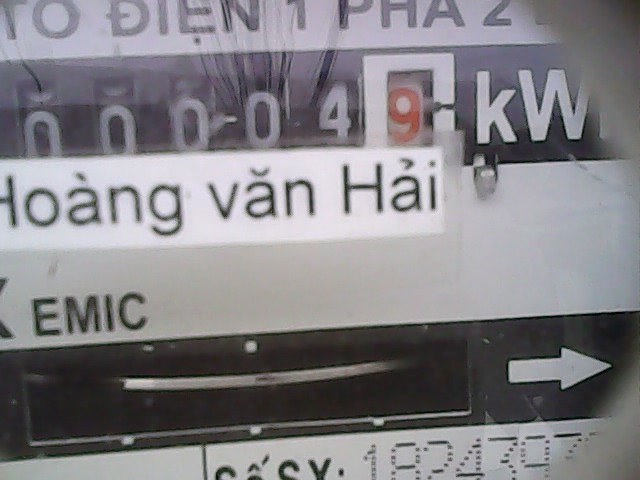phy_plate: (1, 47, 467, 171)
